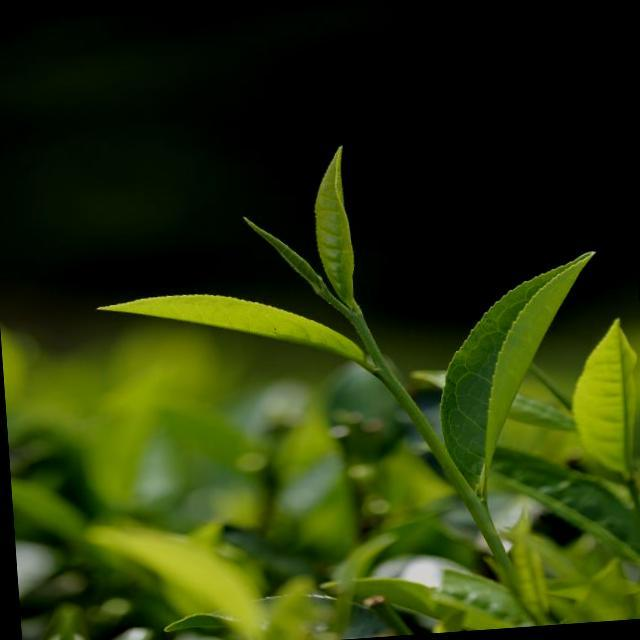Stem: (374, 360, 388, 376)
